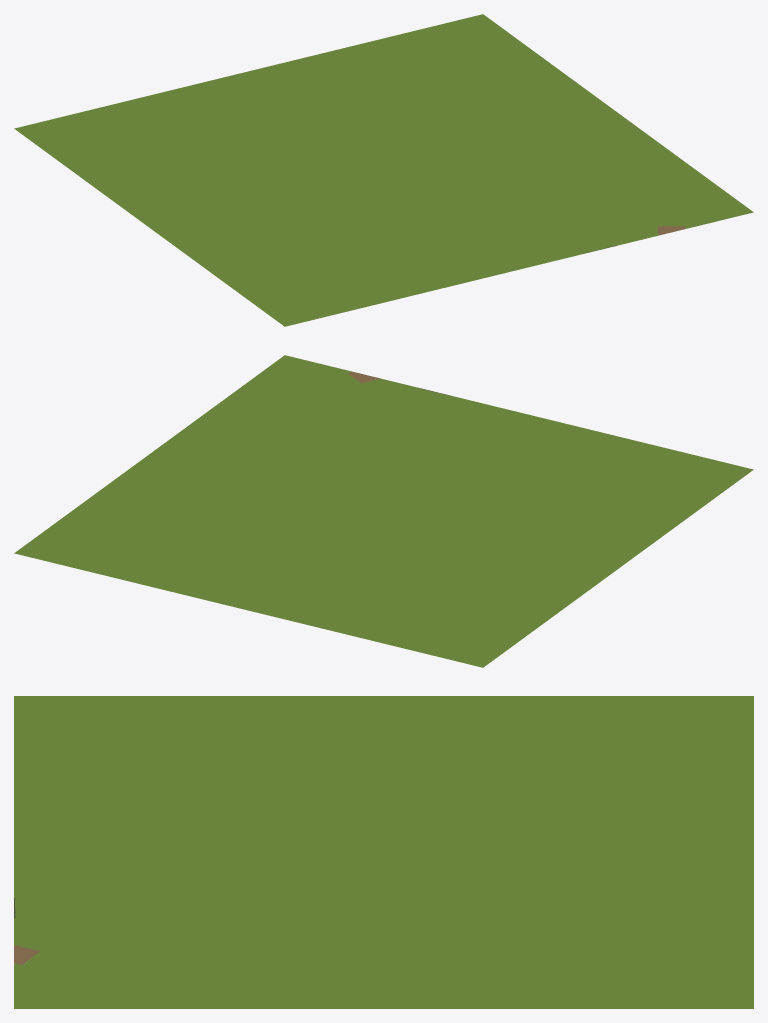
Rendered from cure-14-0.glb.
3 renders of one model, top to bottom at view 1: azimuth 30°, elevation 25°; view 2: azimuth 150°, elevation 25°; view 3: azimuth 270°, elevation 25°, orthographic. The views are drawn at different scales.
Parts seen in each view (by area): view 1: cure-14-0; view 2: cure-14-0; view 3: cure-14-0.
Boxes of the visible parts, bbox=[...] form: cure-14-0: bbox=[14, 14, 753, 326]; cure-14-0: bbox=[14, 355, 753, 667]; cure-14-0: bbox=[14, 696, 753, 1008].
Size of the model in its own units: 100 by 0.003 by 100.
